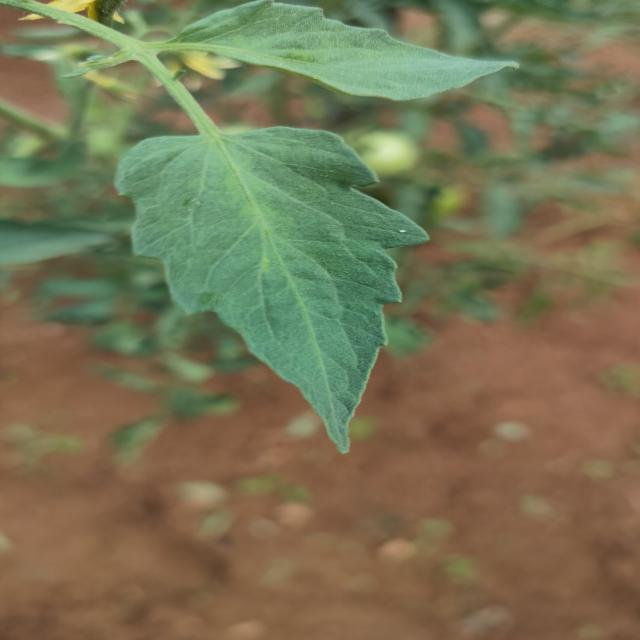tomato_healthy: (122, 123, 426, 454), (159, 0, 519, 101)
